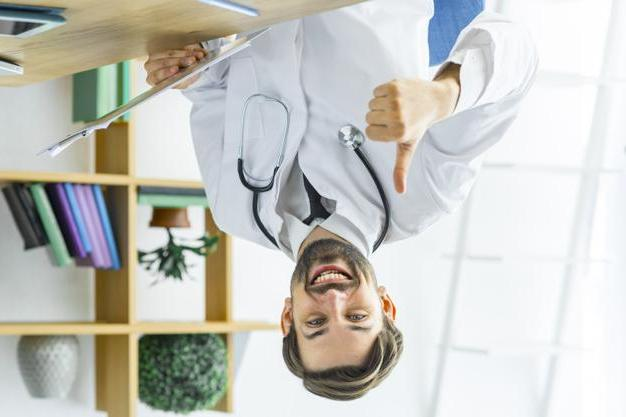thumbsdown: (366, 81, 414, 194)
